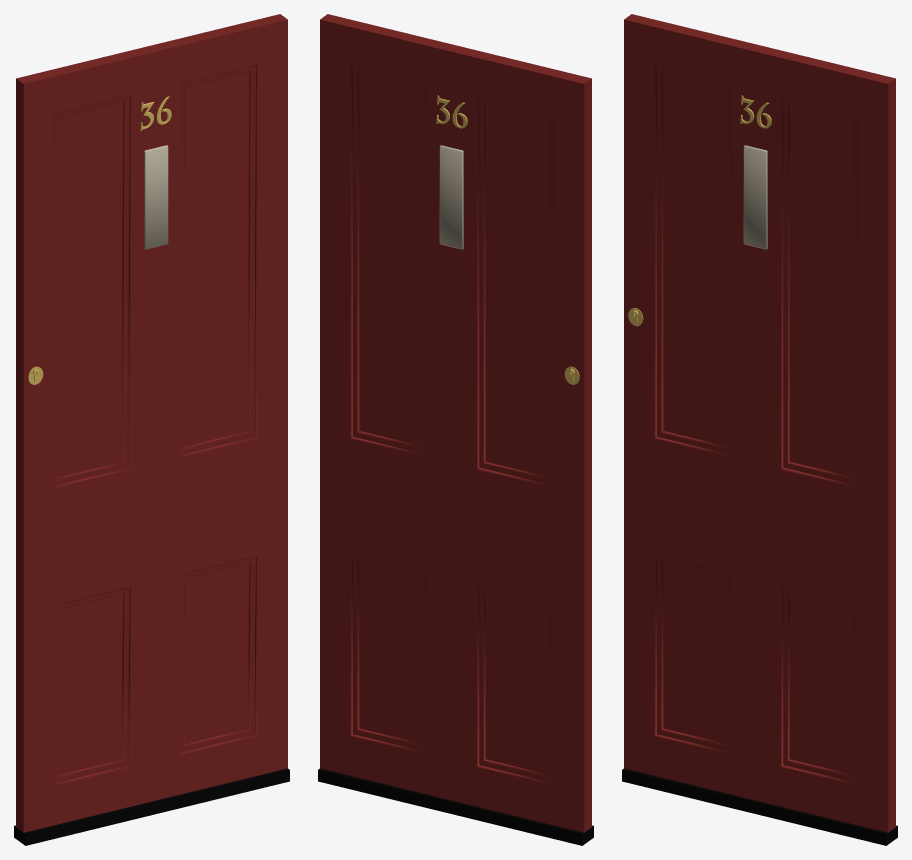
Rendered from Door_002.fbx.
3 views of the same model, side by side, from view 1: azimuth 30°, elevation 25°; view 2: azimuth 150°, elevation 25°; view 3: azimuth 330°, elevation 25° (orthographic).
Parts seen in each view (by area): view 1: TextPlus023; view 2: TextPlus023; view 3: TextPlus023.
Boxes of the visible parts, <box> form: TextPlus023: <box>14,14,289,845</box>; TextPlus023: <box>318,14,593,845</box>; TextPlus023: <box>622,14,897,845</box>.
Bounding box in the file's own units: 0.8 × 2.2 × 0.06.
